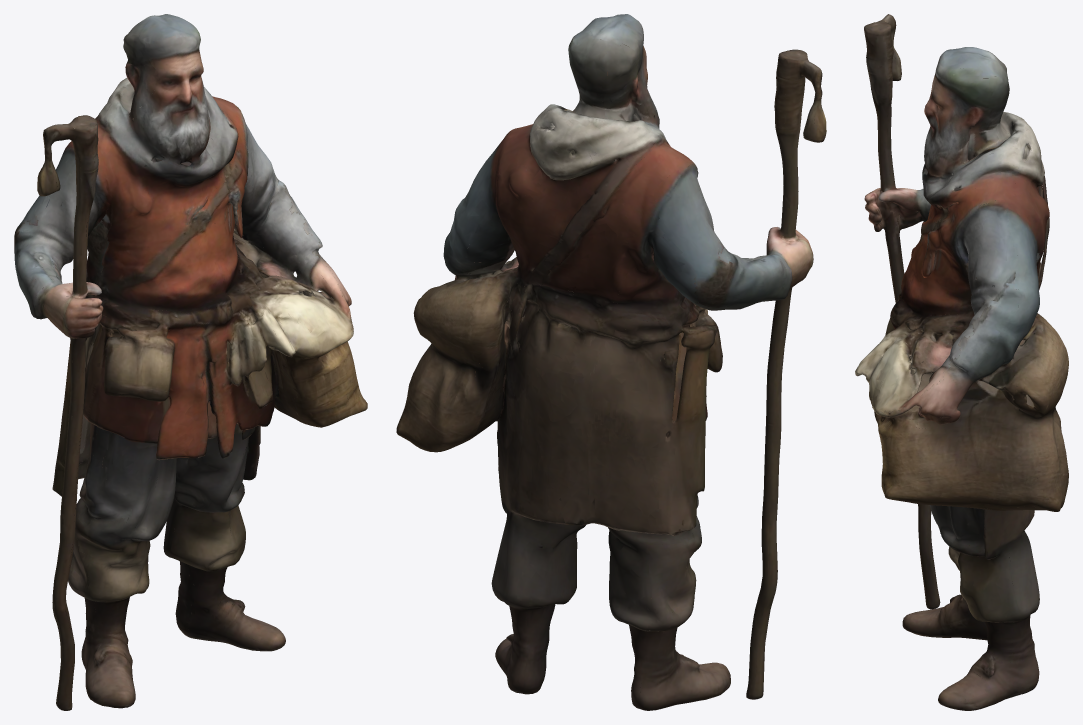
Rendered from merchant_v02_75962.glb.
3 renders of one model, left to right at view 1: azimuth 30°, elevation 25°; view 2: azimuth 150°, elevation 25°; view 3: azimuth 270°, elevation 25°, orthographic. The views are drawn at different scales.
Parts seen in each view (by area): view 1: ProjectGenesis_Mercader_Reparado; view 2: ProjectGenesis_Mercader_Reparado; view 3: ProjectGenesis_Mercader_Reparado.
Part boxes in pixels (<box>): ProjectGenesis_Mercader_Reparado: <box>14,14,367,710</box>; ProjectGenesis_Mercader_Reparado: <box>396,14,826,710</box>; ProjectGenesis_Mercader_Reparado: <box>855,14,1068,710</box>.
Bounding box in the file's own units: 1.07 × 1.99 × 0.6306.
Materials: 1 (1 with a texture image).
